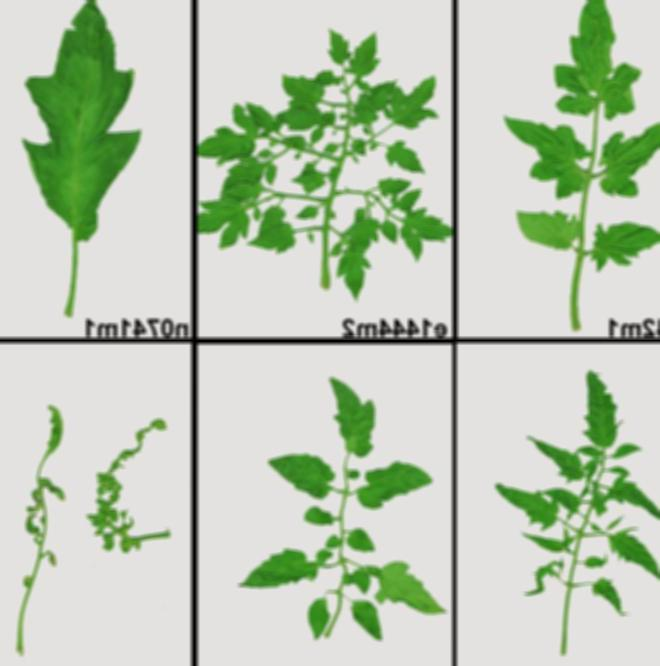Tomato leaf: (7, 0, 163, 245), (557, 0, 640, 122), (504, 107, 591, 188), (600, 114, 660, 200), (500, 210, 594, 262), (571, 359, 626, 447), (334, 360, 377, 465), (258, 451, 347, 500)
